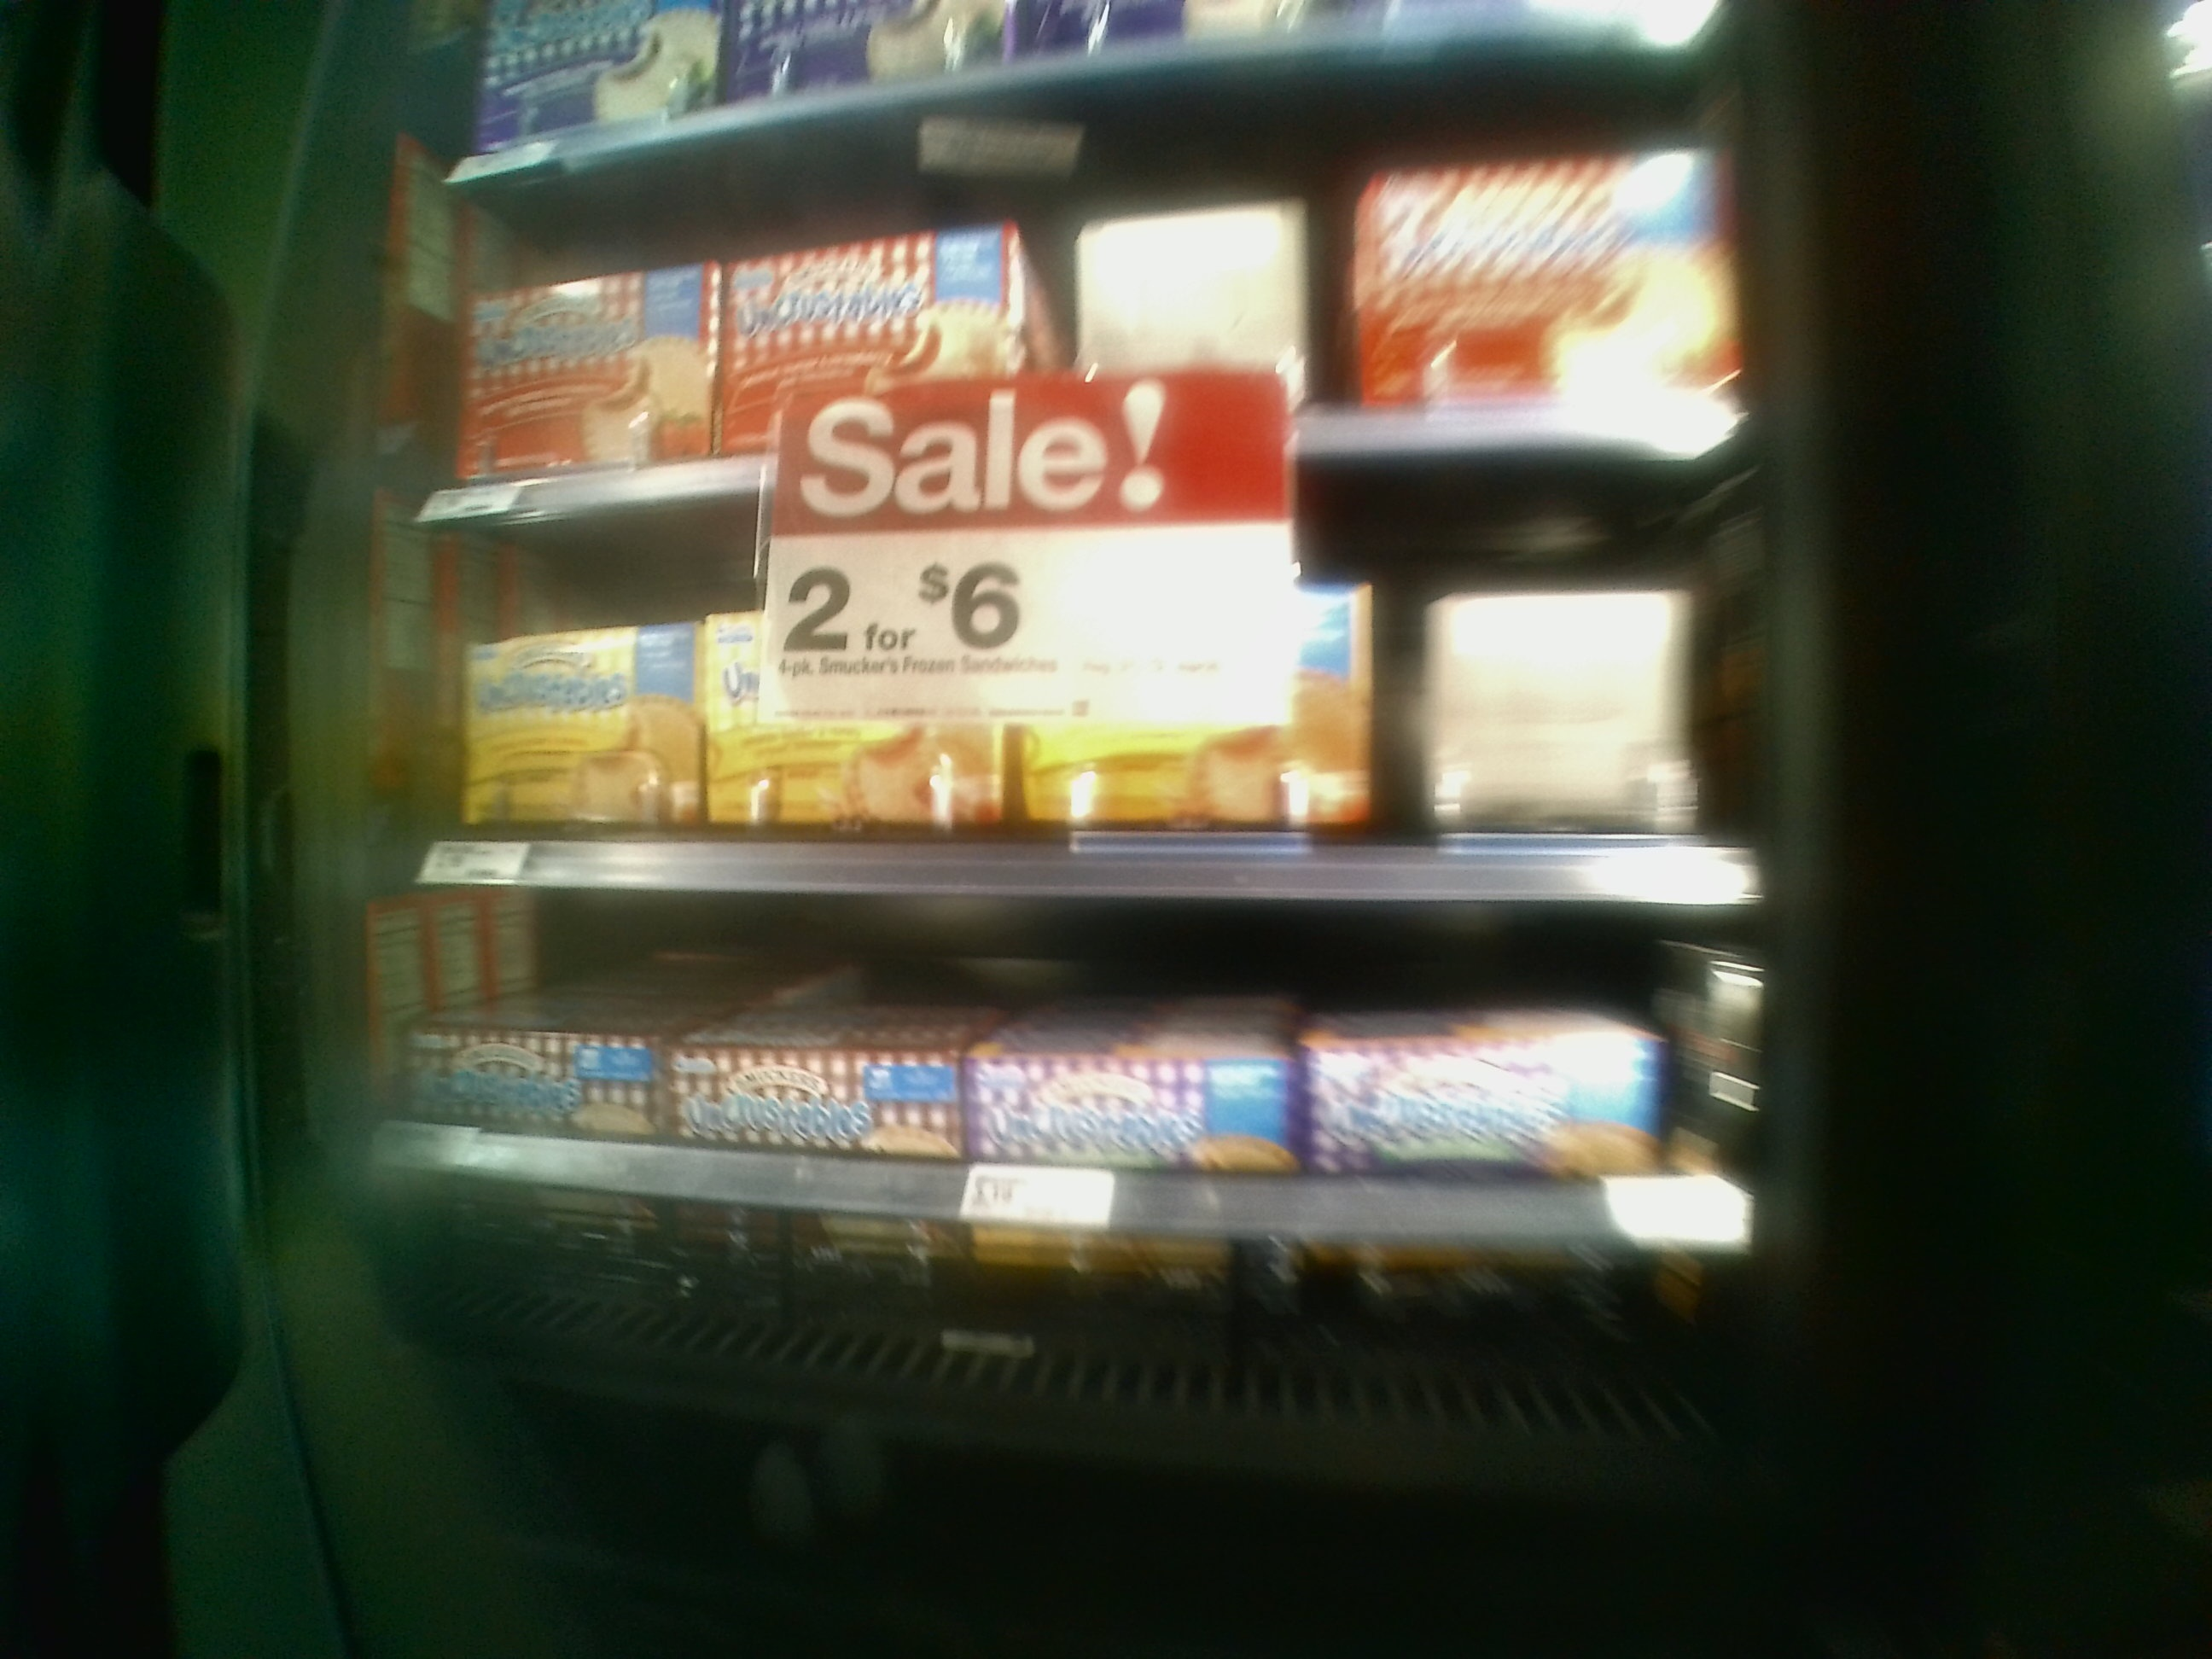shelf: (446, 491, 1684, 887), (427, 849, 1667, 1218), (451, 150, 1688, 416)
